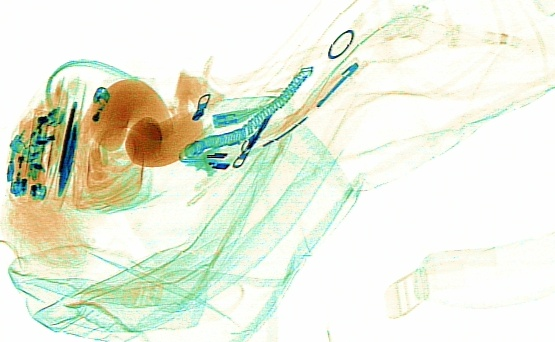lighter: (68, 84, 116, 168), (5, 112, 27, 195)
